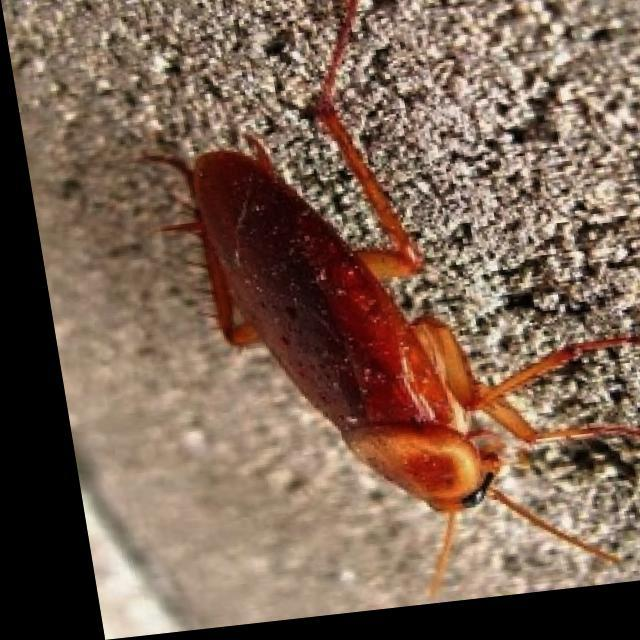cockroach: (140, 97, 632, 584)
